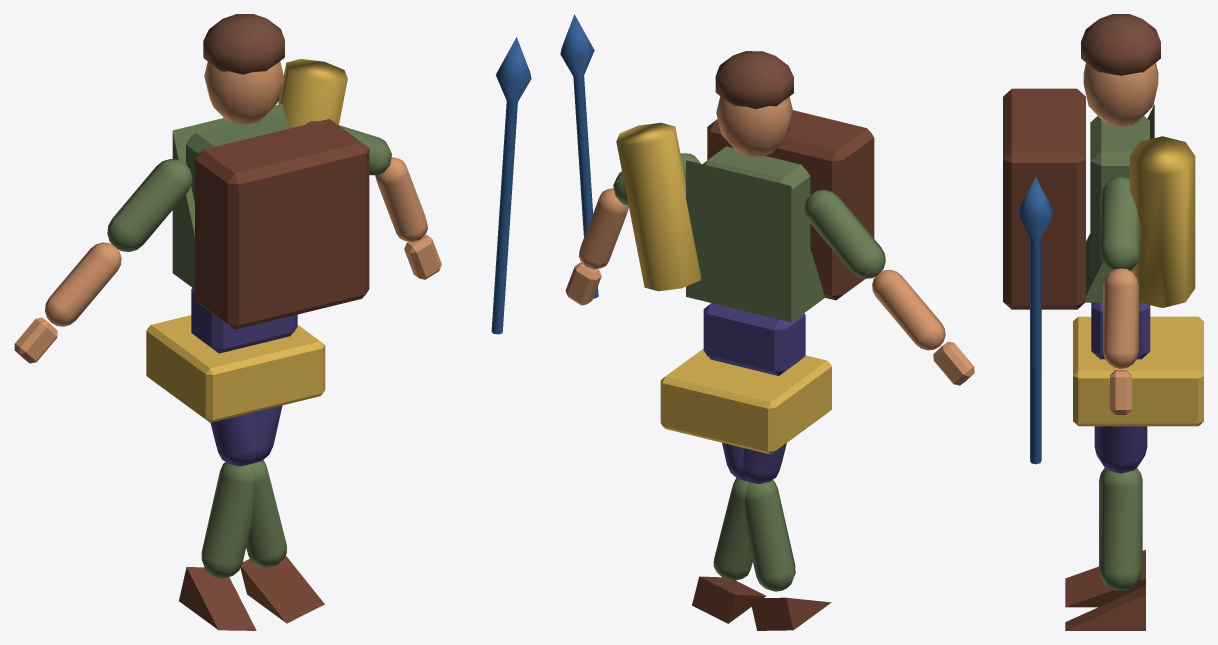
The model's file is adventurer.rustic.glb.
3 views of the same model, side by side, from view 1: azimuth 30°, elevation 25°; view 2: azimuth 150°, elevation 25°; view 3: azimuth 270°, elevation 25° (orthographic). The views are drawn at different scales.
Visible parts, largest first — view 1: accessory.body, accessory.waist, shin.right, accessory.main-hand, upper-arm.left, hair, accessory.back, head, forearm.left, foot.left, foot.right, tunic (+9 smaller); view 2: tunic, accessory.waist, accessory.back, accessory.body, pelvis, shin.right, upper-arm.left, hair, head, accessory.main-hand, forearm.left, torso (+8 smaller); view 3: accessory.body, accessory.waist, accessory.back, shin.left, accessory.main-hand, hair, torso, head, forearm.right, upper-arm.right, thigh.right, foot.left (+4 smaller).
Boxes of the visible parts, <box> form: accessory.body: <box>195,119,369,329</box>; accessory.waist: <box>146,315,325,422</box>; shin.right: <box>201,462,253,578</box>; accessory.main-hand: <box>491,37,531,334</box>; upper-arm.left: <box>107,159,192,251</box>; hair: <box>203,14,284,74</box>; accessory.back: <box>278,59,347,127</box>; head: <box>204,61,284,124</box>; forearm.left: <box>45,242,121,326</box>; foot.left: <box>240,555,324,623</box>; foot.right: <box>179,567,256,630</box>; tunic: <box>172,103,286,289</box>; tunic: <box>686,160,825,322</box>; accessory.waist: <box>660,348,831,454</box>; accessory.back: <box>616,122,701,291</box>; accessory.body: <box>707,110,874,300</box>; pelvis: <box>703,303,805,375</box>; shin.right: <box>745,480,795,591</box>; upper-arm.left: <box>804,190,885,278</box>; hair: <box>715,51,793,109</box>; head: <box>716,96,792,156</box>; accessory.main-hand: <box>560,14,598,298</box>; forearm.left: <box>872,269,945,350</box>; torso: <box>703,146,810,247</box>; accessory.body: <box>1003,88,1085,309</box>; accessory.waist: <box>1073,316,1203,426</box>; accessory.back: <box>1129,136,1195,307</box>; shin.left: <box>1099,469,1142,591</box>; accessory.main-hand: <box>1017,177,1053,464</box>; hair: <box>1081,14,1160,75</box>; torso: <box>1090,116,1149,276</box>; head: <box>1083,63,1158,126</box>; forearm.right: <box>1103,268,1138,368</box>; upper-arm.right: <box>1100,176,1141,270</box>; thigh.right: <box>1094,426,1147,473</box>; foot.left: <box>1065,586,1145,630</box>.
Bounding box in the file's own units: 2.52 × 3.01 × 0.92.
